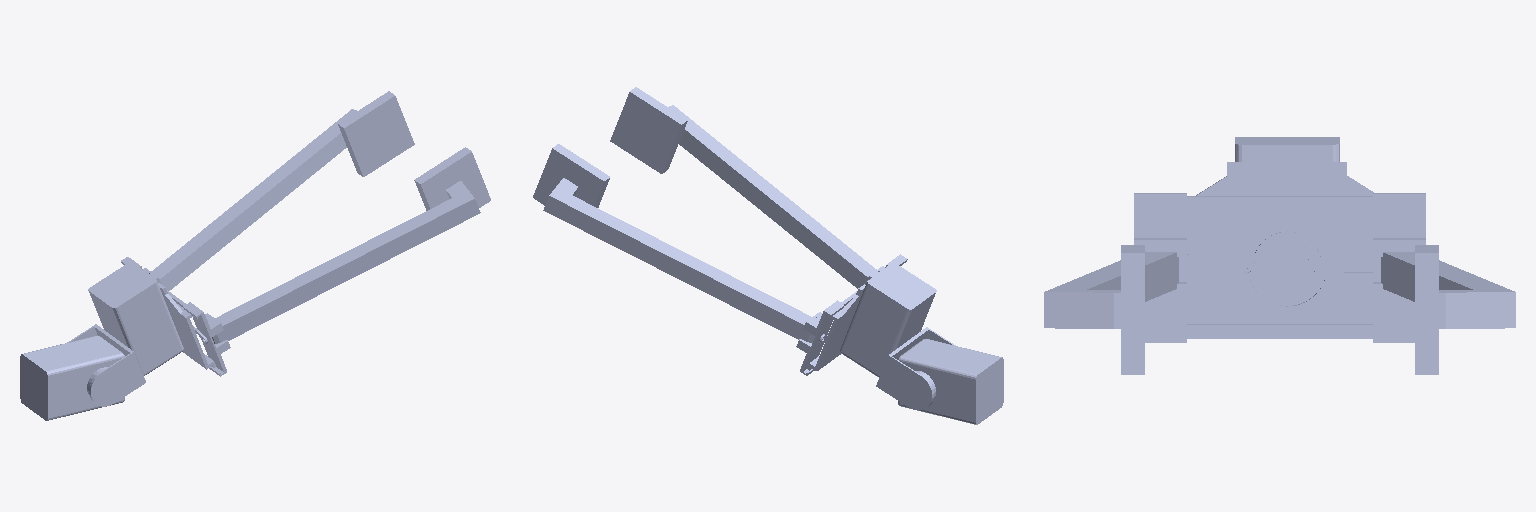
The robot description file, URDF, robot "gripper_urdf2":
<?xml version="1.0" encoding="utf-8"?>
<!-- This URDF was automatically created by SolidWorks to URDF Exporter! Originally created by [author] ([email redacted]) 
     Commit Version: 1.6.0-4-g7f85cfe  Build Version: 1.6.7995.38578
     For more information, please see http://wiki.ros.org/sw_urdf_exporter -->
<robot
  name="gripper_urdf2">
  <link
    name="base_gripper">
    <inertial>
      <origin
        xyz="0.000606169402433687 2.04420695852729E-17 0.015"
        rpy="0 0 0" />
      <mass
        value="0.0478722592398715" />
      <inertia
        ixx="7.69716512578436E-06"
        ixy="-9.37486869699441E-20"
        ixz="1.06559806744992E-21"
        iyy="1.30590028197231E-05"
        iyz="-1.23555318593539E-24"
        izz="1.39491207382402E-05" />
    </inertial>
    <visual>
      <origin
        xyz="0 0 0"
        rpy="0 0 0" />
      <geometry>
        <mesh
          filename="package://gripper/meshes/base_gripper.STL" />
      </geometry>
      <material
        name="">
        <color
          rgba="0.792156862745098 0.819607843137255 0.933333333333333 1" />
      </material>
    </visual>
    <collision>
      <origin
        xyz="0 0 0"
        rpy="0 0 0" />
      <geometry>
        <mesh
          filename="package://gripper/meshes/base_gripper.STL" />
      </geometry>
    </collision>
  </link>
  <link
    name="acople_gripper">
    <inertial>
      <origin
        xyz="0.0376794446386693 -0.012129886888081 -0.000942447786351648"
        rpy="0 0 0" />
      <mass
        value="0.0545710394235731" />
      <inertia
        ixx="1.79970245965979E-05"
        ixy="-5.48604610700076E-08"
        ixz="-8.98113759433479E-11"
        iyy="1.09326944441447E-05"
        iyz="-1.65977131839693E-09"
        izz="1.45057926599939E-05" />
    </inertial>
    <visual>
      <origin
        xyz="0 0 0"
        rpy="0 0 0" />
      <geometry>
        <mesh
          filename="package://gripper/meshes/acople_gripper.STL" />
      </geometry>
      <material
        name="">
        <color
          rgba="0.792156862745098 0.819607843137255 0.933333333333333 1" />
      </material>
    </visual>
    <collision>
      <origin
        xyz="0 0 0"
        rpy="0 0 0" />
      <geometry>
        <mesh
          filename="package://gripper/meshes/acople_gripper.STL" />
      </geometry>
    </collision>
  </link>
  <joint
    name="acople_gripper_joint"
    type="revolute">
    <origin
      xyz="0.01 0 0.015"
      rpy="-1.5708 -0.36327 0" />
    <parent
      link="base_gripper" />
    <child
      link="acople_gripper" />
    <axis
      xyz="0 0 1" />
    <limit
      lower="-6.28318530718" 
      upper="6.28318530718"
      effort="100"
      velocity="100" />
    <dynamics
      damping="0.1"
      friction="0.1" />
  </joint>
  <link
    name="motor_gripper">
    <inertial>
      <origin
        xyz="-1.8845602162143E-15 -1.04083408558608E-17 0.00870588559690423"
        rpy="0 0 0" />
      <mass
        value="0.00125663706143592" />
      <inertia
        ixx="3.30914426178124E-08"
        ixy="6.93668537069047E-26"
        ixz="-2.24082599258384E-23"
        iyy="3.30914426178124E-08"
        iyz="-1.57164316385075E-23"
        izz="6.28318530717958E-08" />
    </inertial>
    <visual>
      <origin
        xyz="0 0 0"
        rpy="0 0 0" />
      <geometry>
        <mesh
          filename="package://gripper/meshes/motor_gripper.STL" />
      </geometry>
      <material
        name="">
        <color
          rgba="0.792156862745098 0.819607843137255 0.933333333333333 1" />
      </material>
    </visual>
    <collision>
      <origin
        xyz="0 0 0"
        rpy="0 0 0" />
      <geometry>
        <mesh
          filename="package://gripper/meshes/motor_gripper.STL" />
      </geometry>
    </collision>
  </link>
  <joint
    name="motor_gripper_joint"
    type="revolute">
    <origin
      xyz="0.046294 -0.004 -0.001"
      rpy="0 -1.5708 0" />
    <parent
      link="acople_gripper" />
    <child
      link="motor_gripper" />
    <axis
      xyz="0 0 1" />
    <limit
      lower="2.072" 
      upper="6.28318530718"
      effort="100"
      velocity="100" />
    <dynamics
      damping="0.1"
      friction="0.1" />
  </joint>
  <link
    name="deslizador_der">
    <inertial>
      <origin
        xyz="-7.41394471716061E-05 0.00279403686780476 -0.000584520983332532"
        rpy="0 0 0" />
      <mass
        value="0.00251429845000548" />
      <inertia
        ixx="7.05185536166649E-08"
        ixy="-3.36362650599211E-12"
        ixz="-8.49231889042195E-11"
        iyy="3.40300390349939E-07"
        iyz="-4.22530965475476E-22"
        izz="3.04794641379609E-07" />
    </inertial>
    <visual>
      <origin
        xyz="0 0 0"
        rpy="0 0 0" />
      <geometry>
        <mesh
          filename="package://gripper/meshes/deslizador_der.STL" />
      </geometry>
      <material
        name="">
        <color
          rgba="0.792156862745098 0.819607843137255 0.933333333333333 1" />
      </material>
    </visual>
    <collision>
      <origin
        xyz="0 0 0"
        rpy="0 0 0" />
      <geometry>
        <mesh
          filename="package://gripper/meshes/deslizador_der.STL" />
      </geometry>
    </collision>
  </link>
  <joint
    name="deslizador_der_joint"
    type="prismatic">
    <origin
      xyz="0.058 -0.00386 -0.0332"
      rpy="3.1416 0 1.5708" />
    <parent
      link="acople_gripper" />
    <child
      link="deslizador_der" />
    <axis
      xyz="0 0 1" />
    <limit
      lower="-0.1"
      upper="0.1"
      effort="100"
      velocity="100" />
    <dynamics
      damping="0.1"
      friction="0.1" />
    <mimic
      joint="motor_gripper_joint"
      multiplier="0.001"
      offset="0" />
  </joint>
  <link
    name="gripper_der">
    <inertial>
      <origin
        xyz="0.106628516471386 -0.00646849082372854 -6.1249999999893E-05"
        rpy="0 0 0" />
      <mass
        value="0.0278026437083291" />
      <inertia
        ixx="3.53548664848273E-06"
        ixy="9.07766869525606E-06"
        ixz="-4.12716235973057E-21"
        iyy="7.95198212423339E-05"
        iyz="6.31419499585852E-22"
        izz="8.09512707710094E-05" />
    </inertial>
    <visual>
      <origin
        xyz="0 0 0"
        rpy="0 0 0" />
      <geometry>
        <mesh
          filename="package://gripper/meshes/gripper_der.STL" />
      </geometry>
      <material
        name="">
        <color
          rgba="0.792156862745098 0.819607843137255 0.933333333333333 1" />
      </material>
    </visual>
    <collision>
      <origin
        xyz="0 0 0"
        rpy="0 0 0" />
      <geometry>
        <mesh
          filename="package://gripper/meshes/gripper_der.STL" />
      </geometry>
    </collision>
  </link>
  <joint
    name="gripper_der_joint"
    type="revolute">
    <origin
      xyz="6.25E-05 0.006 0"
      rpy="1.5708 -0.17453 1.5708" />
    <parent
      link="deslizador_der" />
    <child
      link="gripper_der" />
    <axis
      xyz="0 0 -1" />
    <limit
      lower="-6.28318530718" 
      upper="6.28318530718"
      effort="100"
      velocity="100" />
    <dynamics
      damping="0.1"
      friction="0.1" />
    <mimic
      joint="deslizador_der_joint"
      multiplier="-462"
      offset="1.1873" />
  </joint>
  <link
    name="deslizador_izq">
    <inertial>
      <origin
        xyz="7.73843662802975E-05 0.00279403686780473 0.0005768734044043"
        rpy="0 0 0" />
      <mass
        value="0.00251429845000548" />
      <inertia
        ixx="7.05173511405155E-08"
        ixy="-3.36362650600534E-12"
        ixz="1.34326072539774E-10"
        iyy="3.4030039034994E-07"
        iyz="-4.35148700991177E-22"
        izz="3.04795843855759E-07" />
    </inertial>
    <visual>
      <origin
        xyz="0 0 0"
        rpy="0 0 0" />
      <geometry>
        <mesh
          filename="package://gripper/meshes/deslizador_izq.STL" />
      </geometry>
      <material
        name="">
        <color
          rgba="0.792156862745098 0.819607843137255 0.933333333333333 1" />
      </material>
    </visual>
    <collision>
      <origin
        xyz="0 0 0"
        rpy="0 0 0" />
      <geometry>
        <mesh
          filename="package://gripper/meshes/deslizador_izq.STL" />
      </geometry>
    </collision>
  </link>
  <joint
    name="deslizador_izq_joint"
    type="prismatic">
    <origin
      xyz="0.058 -0.00386 0.031199"
      rpy="3.1416 0 1.5708" />
    <parent
      link="acople_gripper" />
    <child
      link="deslizador_izq" />
    <axis
      xyz="0 0 1" />
    <limit
      lower="-0.1"
      upper="0.1"
      effort="100"
      velocity="100" />
    <dynamics
      damping="0.1"
      friction="0.1" />
    <mimic
      joint="deslizador_der_joint"
      multiplier="-1"
      offset="0" />
  </joint>
  <link
    name="gripper_izq">
    <inertial>
      <origin
        xyz="0.106628516471385 0.00646849082372439 -6.12499999999312E-05"
        rpy="0 0 0" />
      <mass
        value="0.0278026437083291" />
      <inertia
        ixx="3.53548664848271E-06"
        ixy="-9.07766869525605E-06"
        ixz="8.36921458829764E-21"
        iyy="7.95198212423339E-05"
        iyz="9.46134403700918E-22"
        izz="8.09512707710093E-05" />
    </inertial>
    <visual>
      <origin
        xyz="0 0 0"
        rpy="0 0 0" />
      <geometry>
        <mesh
          filename="package://gripper/meshes/gripper_izq.STL" />
      </geometry>
      <material
        name="">
        <color
          rgba="0.792156862745098 0.819607843137255 0.933333333333333 1" />
      </material>
    </visual>
    <collision>
      <origin
        xyz="0 0 0"
        rpy="0 0 0" />
      <geometry>
        <mesh
          filename="package://gripper/meshes/gripper_izq.STL" />
      </geometry>
    </collision>
  </link>
  <joint
    name="gripper_izq_joint"
    type="revolute">
    <origin
      xyz="6.25E-05 0.006 0"
      rpy="1.5708 0.17453 1.5708" />
    <parent
      link="deslizador_izq" />
    <child
      link="gripper_izq" />
    <axis
      xyz="0 0 -1" />
    <limit
      lower="-6.28318530718" 
      upper="6.28318530718"
      effort="100"
      velocity="100" />
    <dynamics
      damping="0.1"
      friction="0.1" />
    <mimic
      joint="gripper_der_joint"
      multiplier="-1"
      offset="0" />
  </joint>
</robot>

--- Facts derived from the render (not from the file) ---
Views: 3 orthographic renders of the robot side by side, from view 1: azimuth 30°, elevation 25°; view 2: azimuth 150°, elevation 25°; view 3: azimuth 270°, elevation 25°.
Robot: gripper_urdf2 — 7 links, 6 joints (4 revolute, 2 prismatic); root link base_gripper; default pose: all joints at 0 but 1 set to mid-range because 0 is outside their limits (motor_gripper_joint = 4.18, deslizador_der_joint = 0.0042).
Links seen in each view (by area): view 1: gripper_der, gripper_izq, acople_gripper, base_gripper, deslizador_der; view 2: gripper_izq, gripper_der, acople_gripper, base_gripper, deslizador_izq; view 3: acople_gripper, gripper_der, gripper_izq, deslizador_der, deslizador_izq.
Link boxes in pixels (x1=…): gripper_der: x1=212, y1=147, x2=490, y2=343; gripper_izq: x1=151, y1=91, x2=414, y2=290; acople_gripper: x1=67, y1=262, x2=215, y2=406; base_gripper: x1=20, y1=336, x2=124, y2=420; deslizador_der: x1=183, y1=302, x2=230, y2=376; gripper_izq: x1=533, y1=144, x2=814, y2=342; gripper_der: x1=610, y1=87, x2=876, y2=288; acople_gripper: x1=807, y1=263, x2=955, y2=409; base_gripper: x1=898, y1=339, x2=1003, y2=424; deslizador_izq: x1=796, y1=300, x2=844, y2=375; acople_gripper: x1=1187, y1=137, x2=1373, y2=338; gripper_der: x1=1044, y1=245, x2=1178, y2=374; gripper_izq: x1=1381, y1=245, x2=1515, y2=374; deslizador_der: x1=1134, y1=193, x2=1255, y2=342; deslizador_izq: x1=1304, y1=193, x2=1425, y2=342.
Bounding box of the posed robot: 0.263 × 0.1352 × 0.1198 m (x, y, z).
7 mesh visuals loaded from 7 distinct referenced files (7 binary STL).